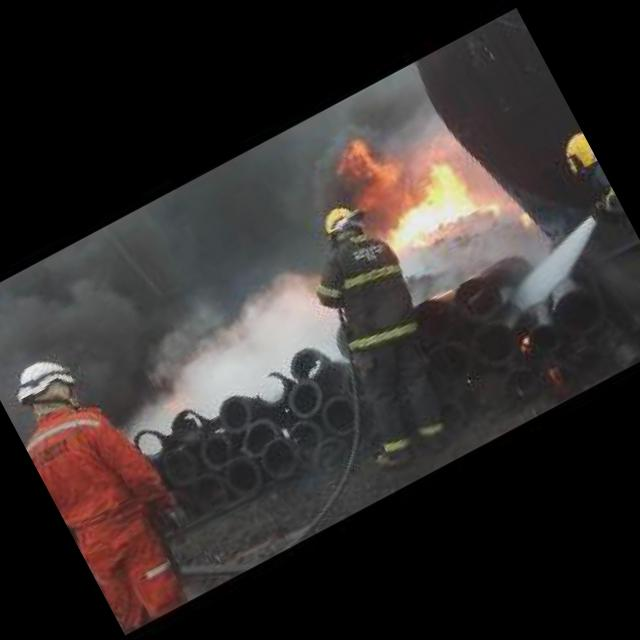fire: (322, 91, 504, 271), (514, 206, 534, 226)
smoke: (90, 238, 360, 457), (0, 211, 184, 411)
